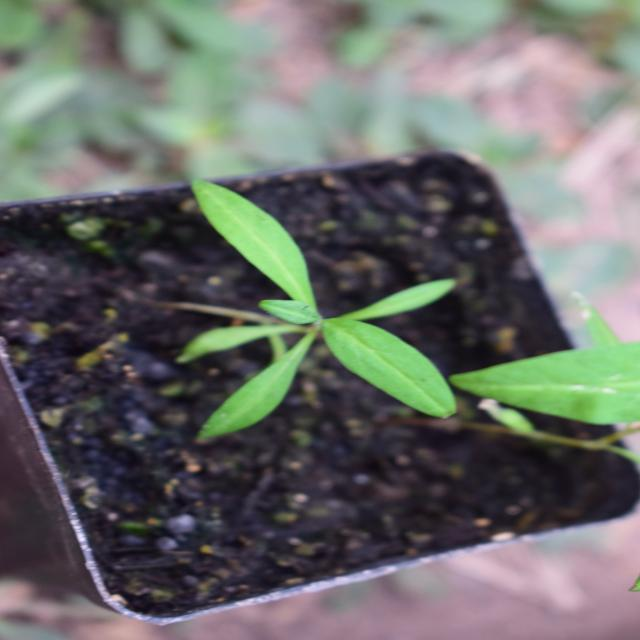white_smart_weed: (145, 152, 488, 471)
